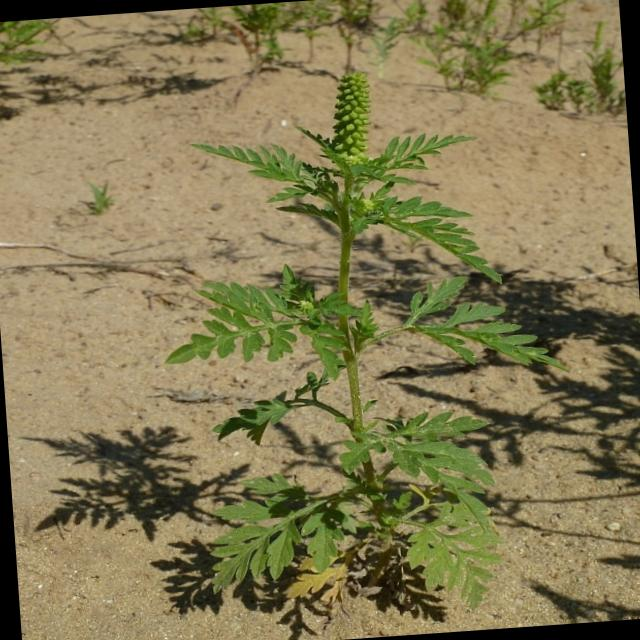ambrosia: (225, 54, 481, 264)
